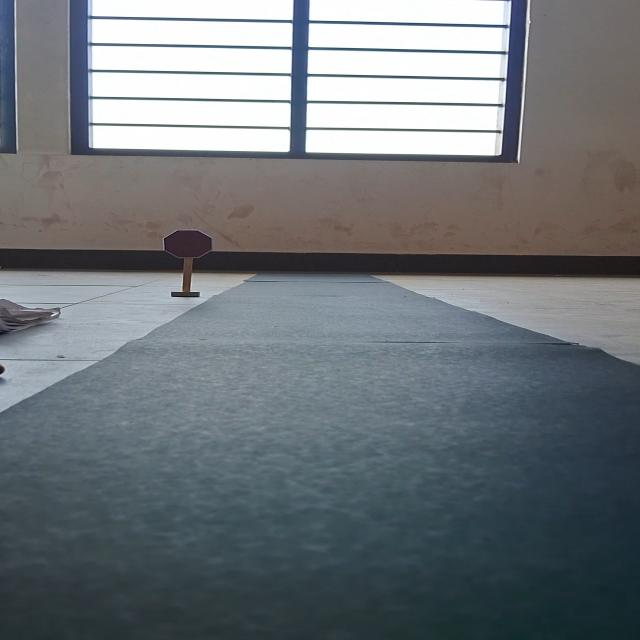Stop: (163, 230, 213, 258)
